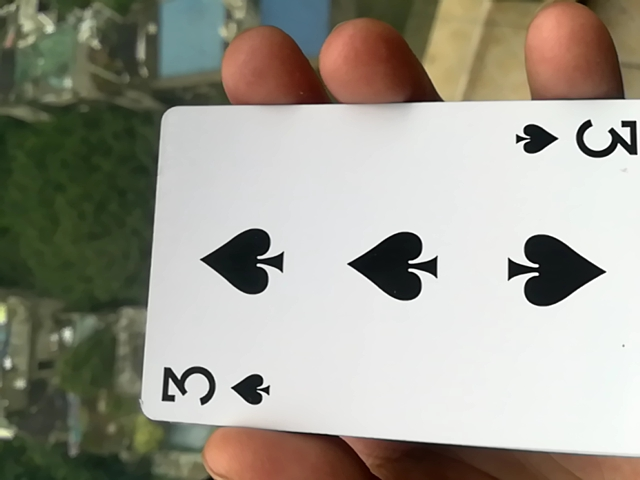ht 3: (125, 109, 634, 474)
